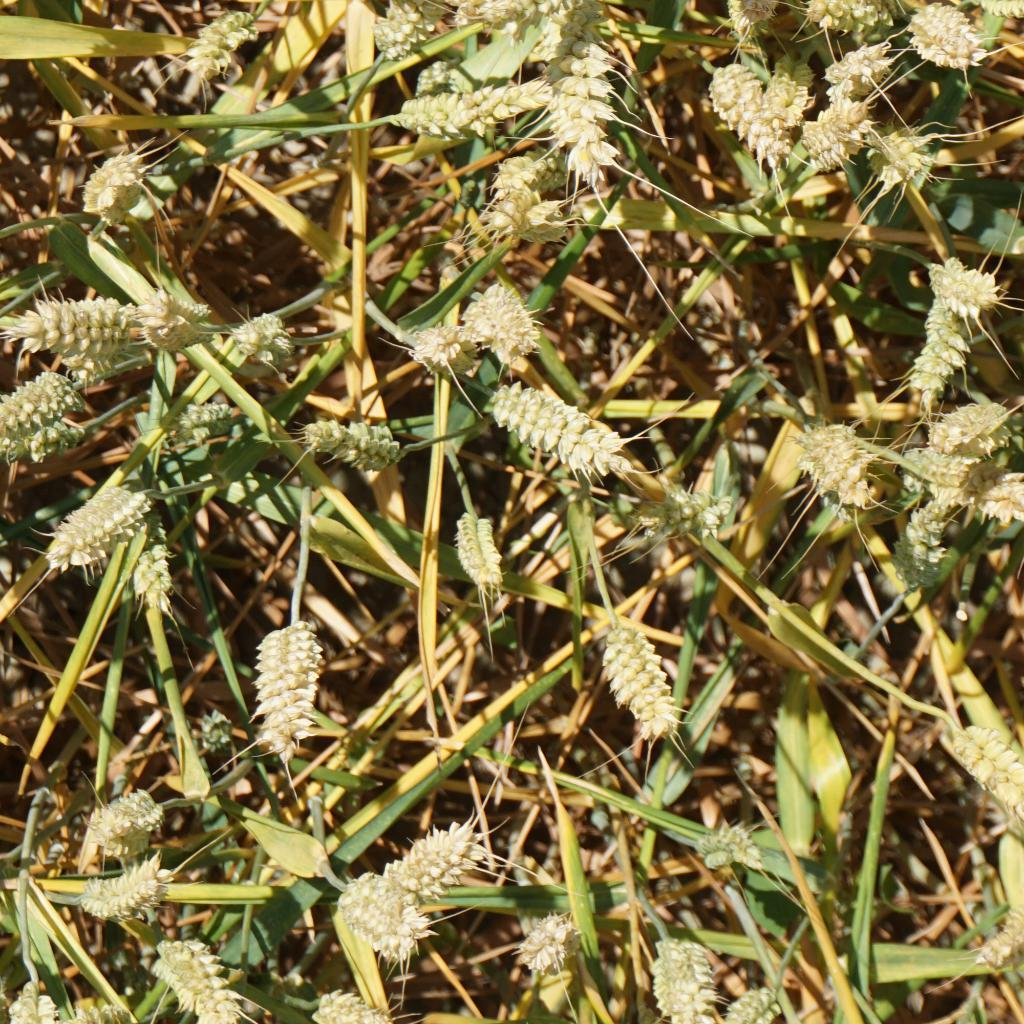0-0: (483, 387, 622, 477), (548, 10, 617, 179), (249, 610, 327, 758), (371, 818, 496, 902), (592, 623, 677, 745), (951, 717, 1024, 850), (389, 78, 553, 135), (900, 449, 1024, 523), (55, 476, 150, 561), (795, 418, 873, 520), (8, 291, 132, 354), (711, 62, 783, 170), (156, 932, 240, 1024), (340, 868, 422, 959), (889, 501, 959, 594), (907, 290, 971, 388), (457, 273, 535, 352), (78, 862, 179, 920), (447, 513, 512, 601), (73, 156, 157, 223), (361, 0, 457, 57), (296, 409, 395, 464), (510, 905, 587, 975), (467, 153, 532, 233), (933, 400, 1024, 457), (912, 0, 978, 76), (91, 780, 164, 848), (803, 100, 877, 167), (641, 485, 732, 537), (655, 936, 713, 1016), (0, 367, 77, 426), (911, 250, 993, 304), (754, 47, 812, 121), (197, 3, 260, 71), (408, 315, 476, 376), (969, 902, 1024, 976), (0, 417, 91, 460), (873, 124, 927, 193), (829, 43, 904, 92), (693, 820, 764, 870), (145, 289, 202, 346), (172, 392, 233, 440), (807, 0, 889, 35), (522, 201, 583, 248), (310, 986, 384, 1024), (133, 542, 177, 603), (240, 313, 298, 359), (722, 985, 784, 1024), (199, 699, 239, 759), (13, 981, 64, 1024), (726, 0, 792, 24), (412, 59, 461, 91), (972, 0, 1024, 24)
